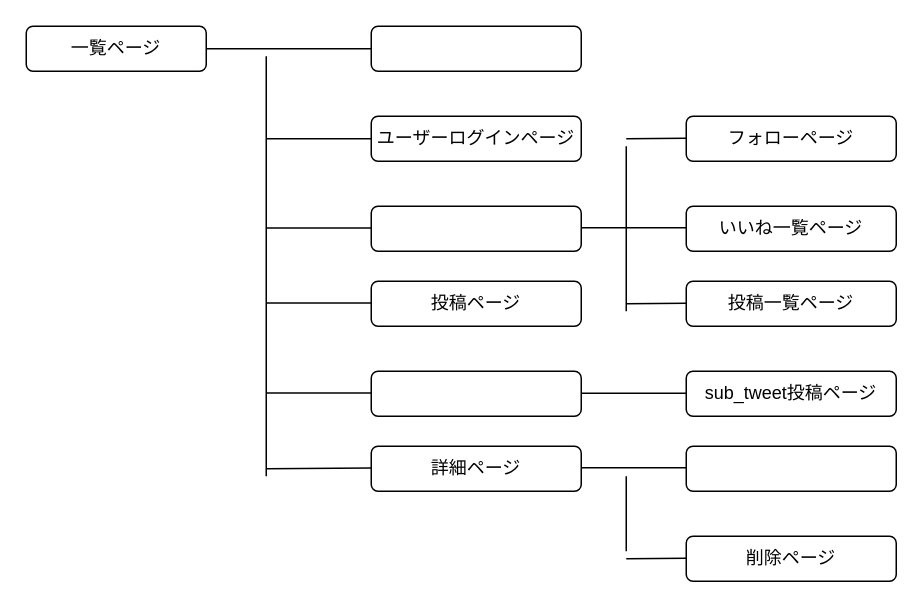
Image size: 923x608. Some labels were removed from this diagram. The box of each missing label's shape, as (x1, y1, x2, y2) in pixels:
ユーザーマイページ: (370, 205, 581, 251)
ユーザー新規登録ページ: (370, 25, 581, 71)
検索ページ: (370, 370, 581, 416)
編集ページ: (685, 445, 896, 491)
